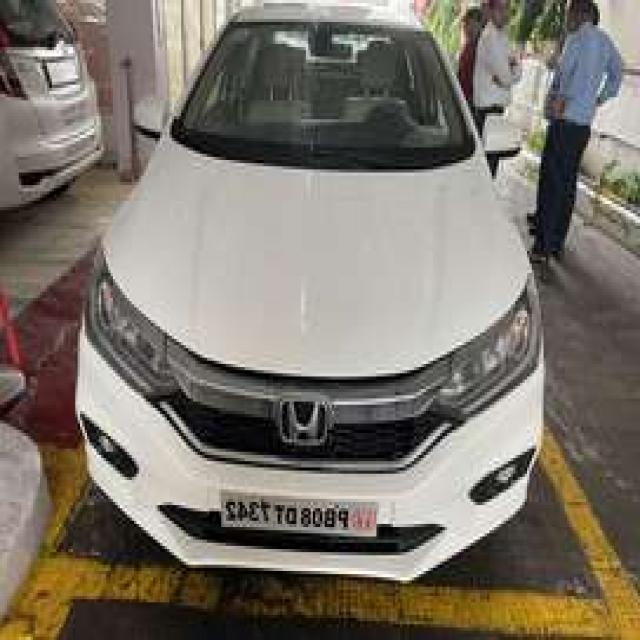license_plate: (217, 484, 381, 542)
